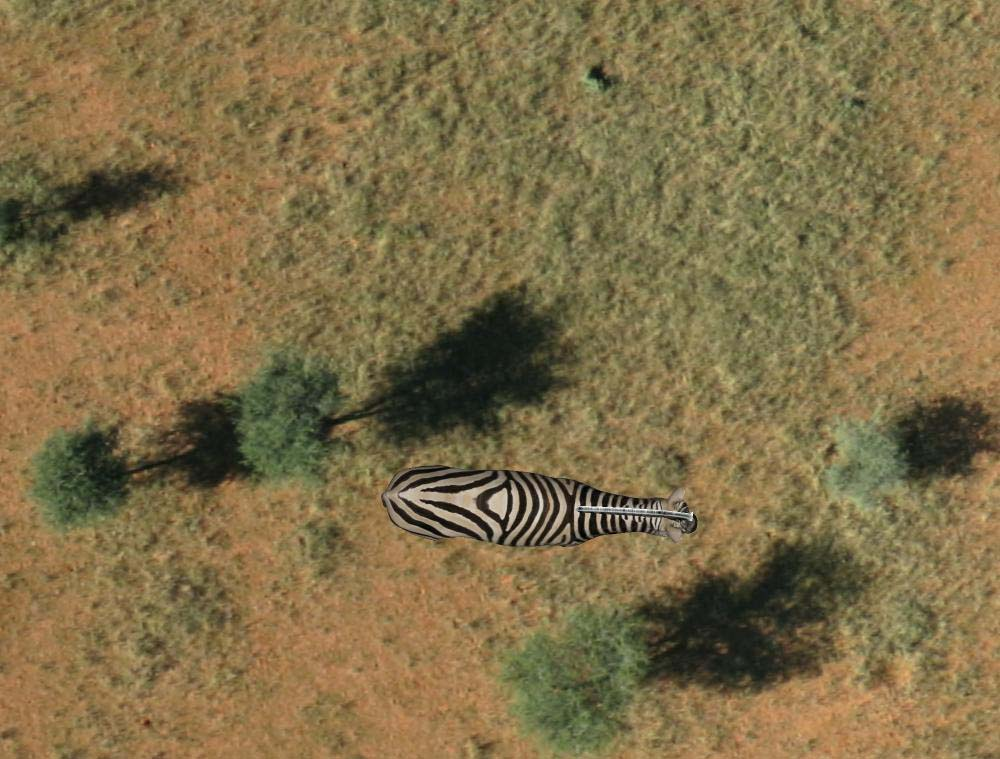zebra: (383, 459, 702, 551)
